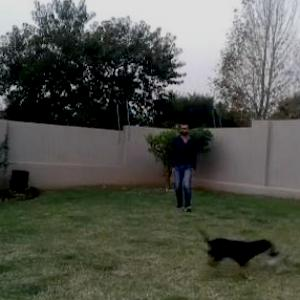follow: (170, 118, 198, 215)
